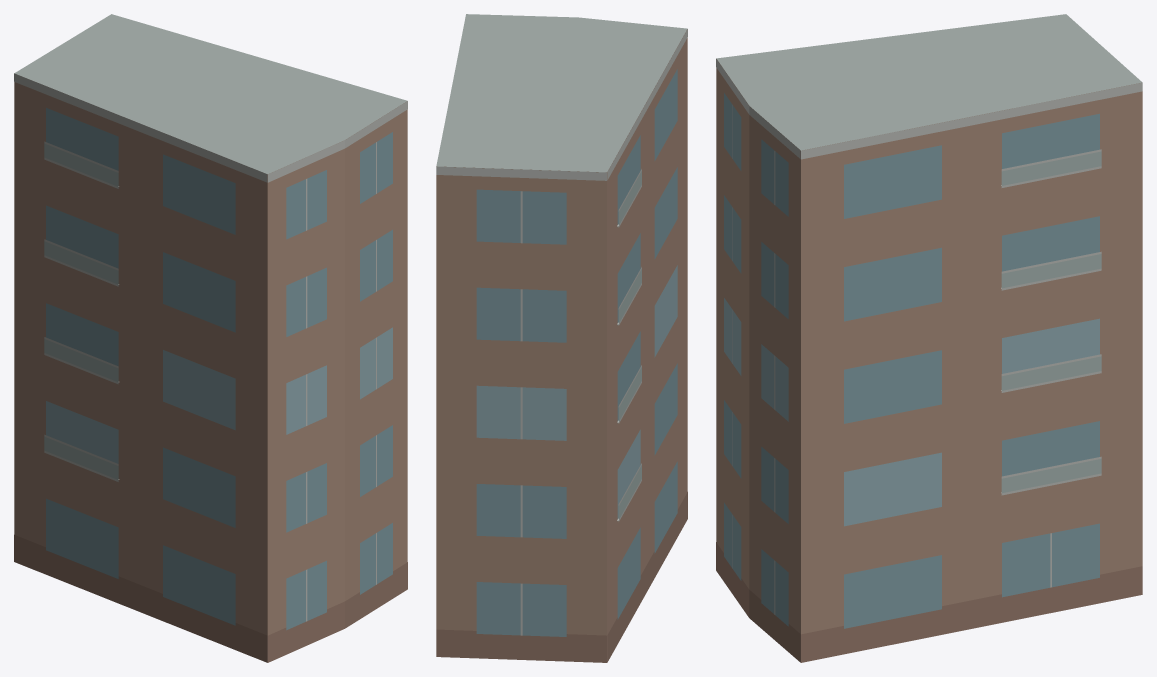
Rendered from survey-upis-32975008.glb.
3 views of the same model, side by side, from view 1: azimuth 30°, elevation 25°; view 2: azimuth 150°, elevation 25°; view 3: azimuth 270°, elevation 25° (orthographic). The views are drawn at different scales.
Parts seen in each view (by area): view 1: survey-upis-32975008.tmp; view 2: survey-upis-32975008.tmp; view 3: survey-upis-32975008.tmp.
Boxes of the visible parts, left/top/right/bottom form: survey-upis-32975008.tmp: left=14, top=14, right=407, bottom=662; survey-upis-32975008.tmp: left=436, top=14, right=687, bottom=662; survey-upis-32975008.tmp: left=716, top=14, right=1142, bottom=662.
Size of the model in its own units: 8.08 by 14.1 by 10.65.
